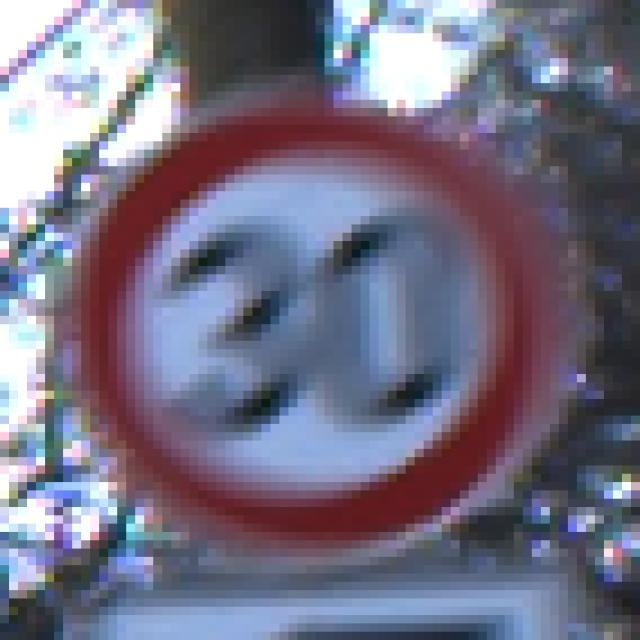Speed Limit -30-: (49, 54, 582, 586)
